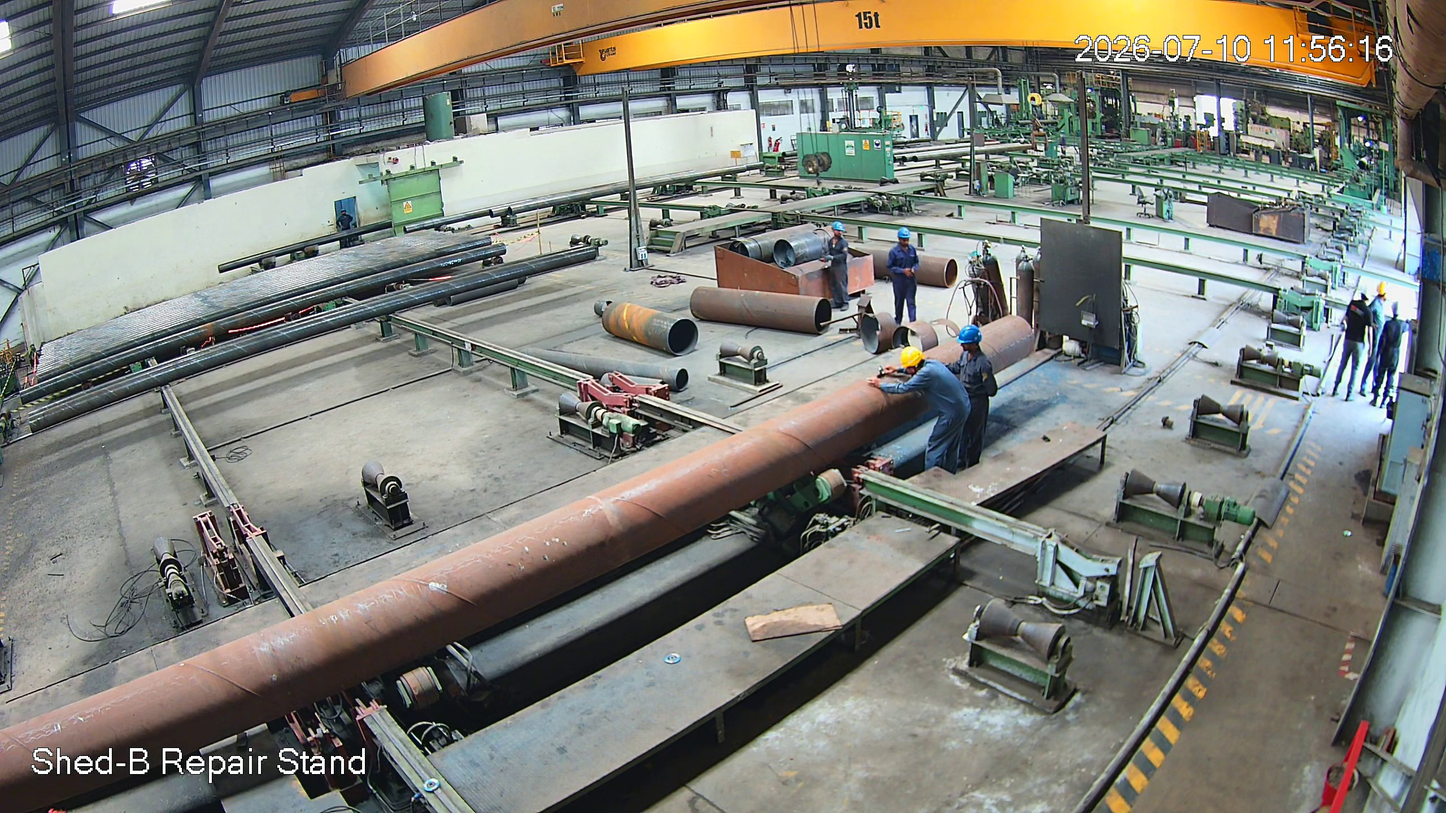Helmet: (954, 324, 991, 367), (896, 346, 930, 381), (894, 225, 917, 253), (829, 217, 849, 243), (1389, 299, 1406, 326), (1373, 279, 1390, 304)
Person: (890, 349, 968, 477), (949, 326, 1001, 469), (885, 227, 927, 330), (1365, 281, 1393, 400), (1347, 288, 1377, 399), (1380, 301, 1409, 410), (822, 220, 853, 315)
